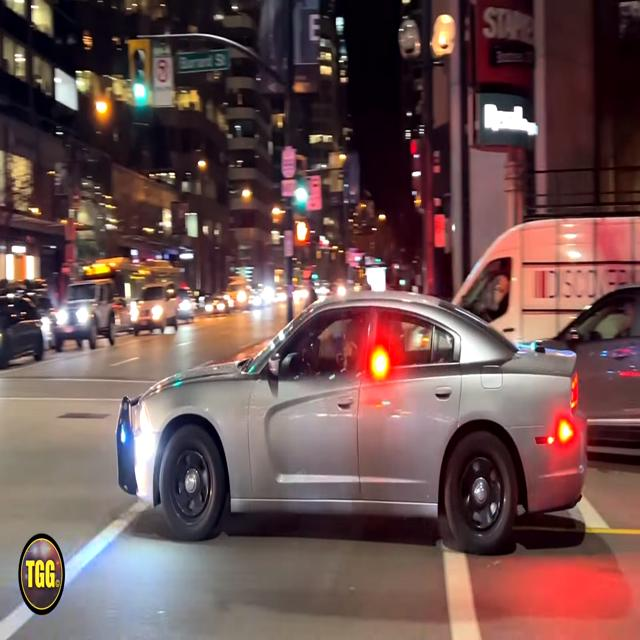emergency-vehicles: (86, 280, 598, 566)
